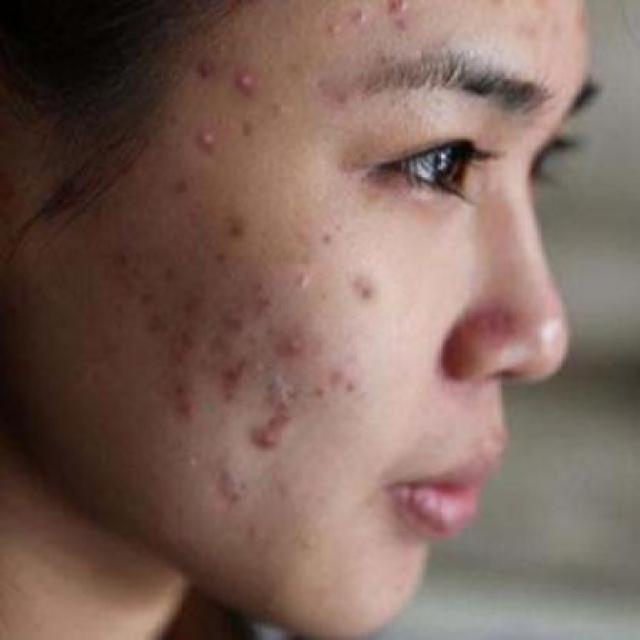papules: (274, 319, 312, 367), (246, 416, 286, 456), (170, 387, 204, 428), (191, 125, 223, 153), (232, 68, 258, 98)
